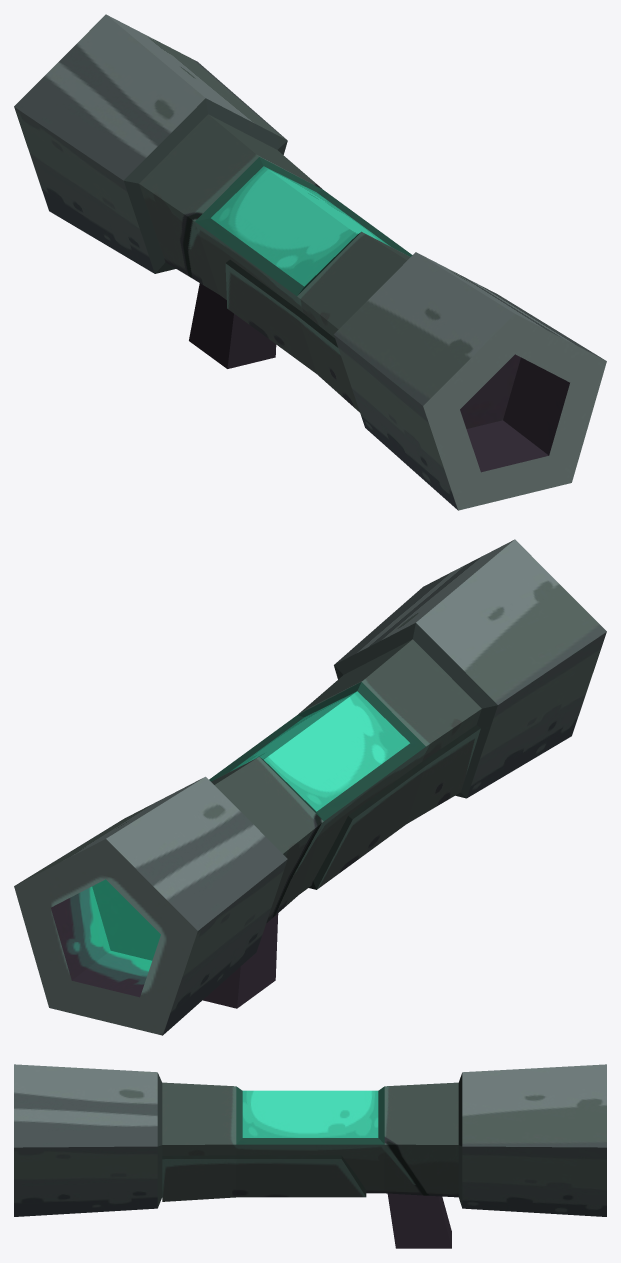
File: Weapon_01.FBX
3 renders of one model, top to bottom at view 1: azimuth 30°, elevation 25°; view 2: azimuth 150°, elevation 25°; view 3: azimuth 270°, elevation 25°, orthographic. The views are drawn at different scales.
Visible parts, largest first — view 1: Tube001; view 2: Tube001; view 3: Tube001.
Part boxes in pixels (x1,y1,x2,y2): Tube001: (14, 14, 606, 510); Tube001: (14, 539, 606, 1035); Tube001: (14, 1064, 606, 1248).
Size of the model in its own units: 18.19 by 22.91 by 70.1.
